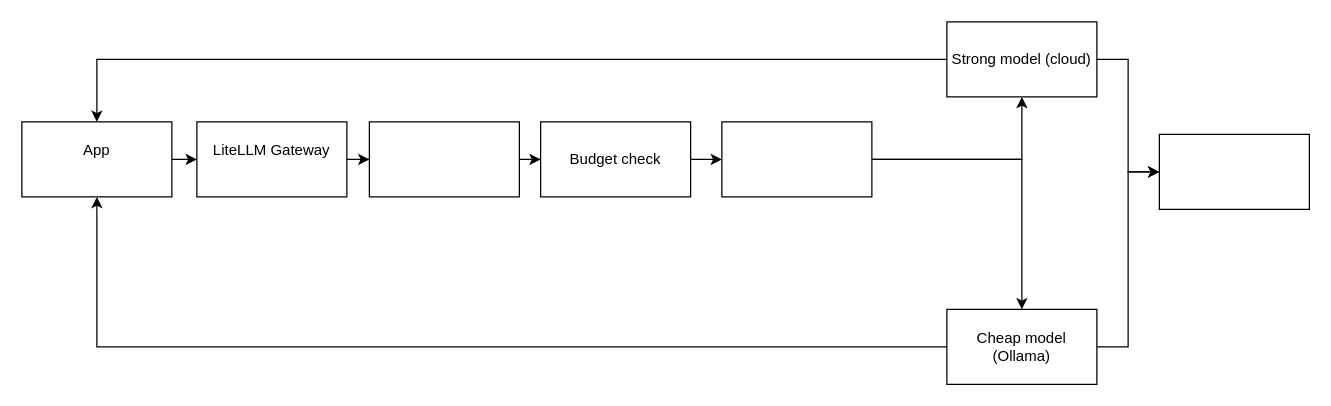
This 1331x406 diagram has some shape labels left out. The shapes that lost their labels are listed below. From the top down, each one's centre as x and y in pixels, then its label:
(443,159): Key check
(796,159): Router (simple / complex)
(1233,171): Ledger (database)
